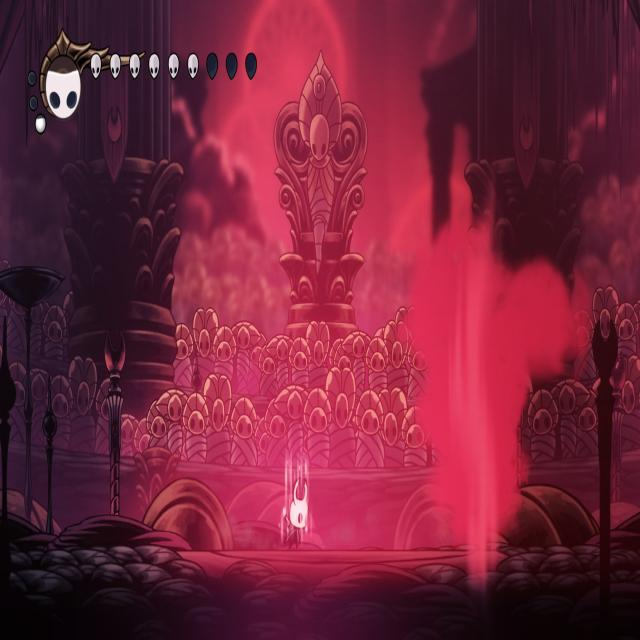Player: (280, 459, 312, 556)
